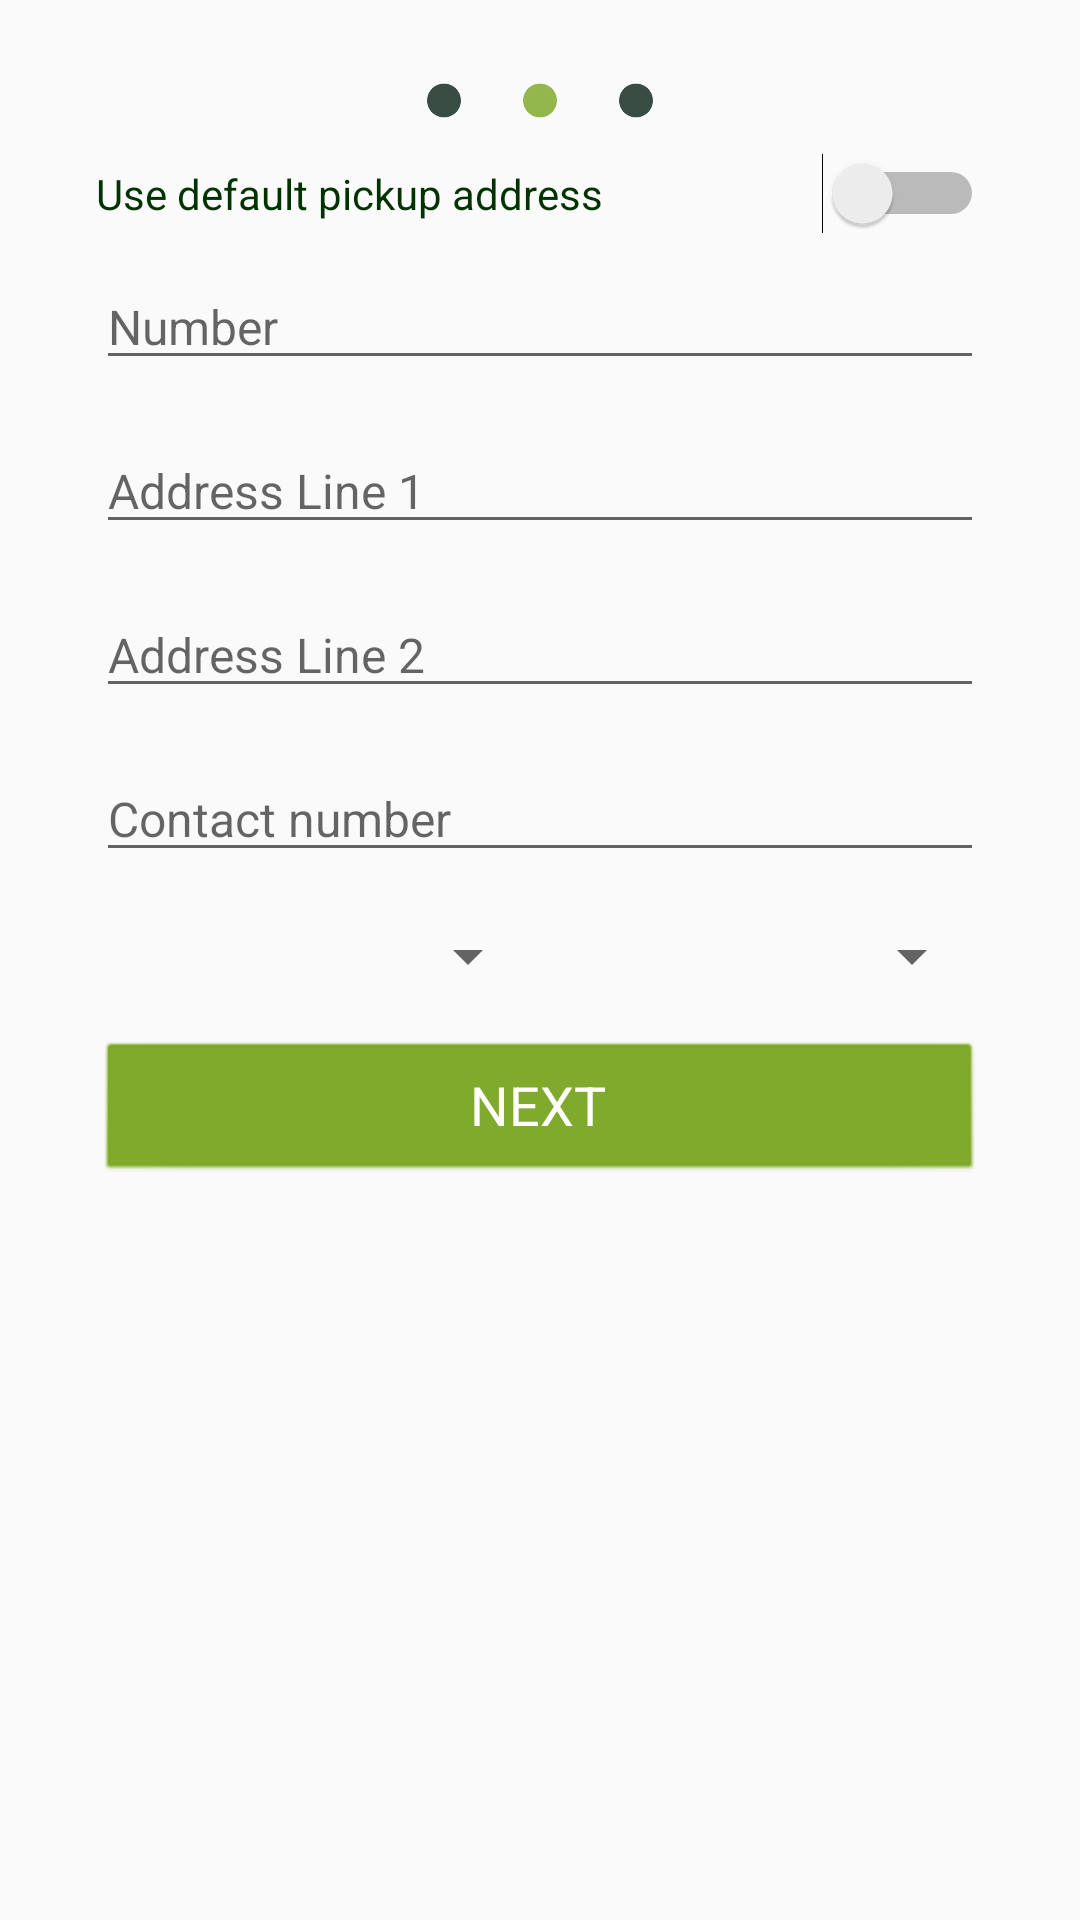

Icon bounding boxes for this 1080px×1920px phone screenshot, format (x1, y1, x2, y2):
circle: (427, 83, 461, 118), (619, 83, 653, 118)
